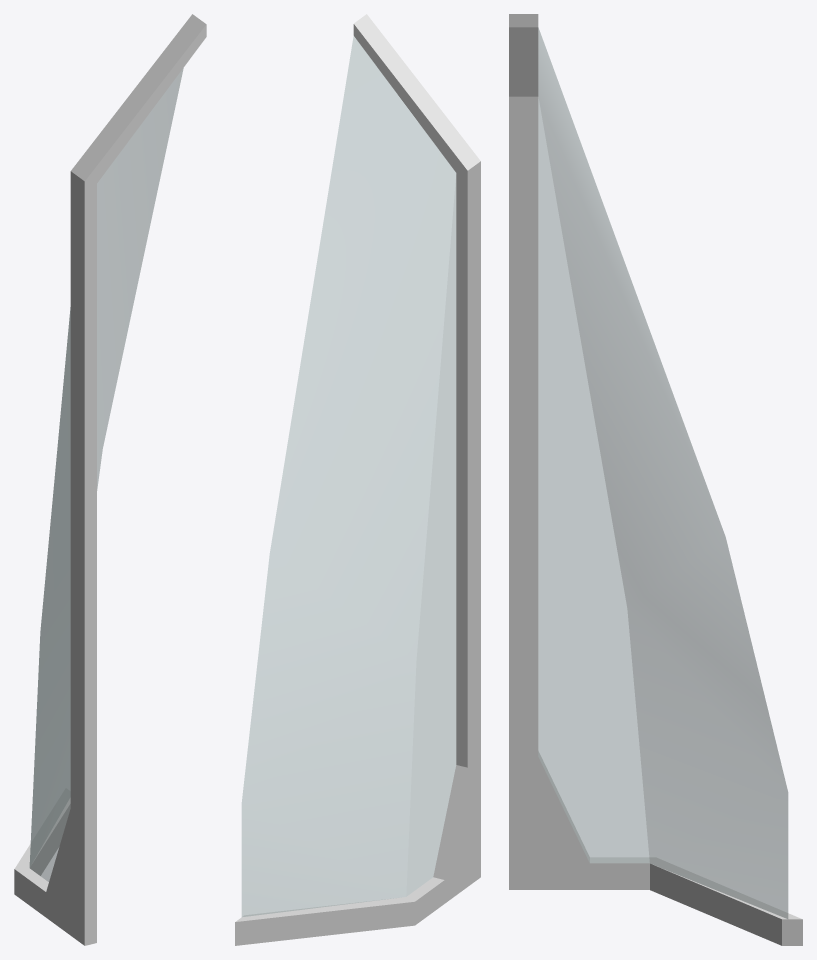
Rendered from winshield02R.fbx.
3 renders of one model, left to right at view 1: azimuth 30°, elevation 25°; view 2: azimuth 150°, elevation 25°; view 3: azimuth 270°, elevation 25°, orthographic. The views are drawn at different scales.
Visible parts, largest first — view 1: right glass; view 2: right glass; view 3: right glass.
Part boxes in pixels (box(x1,y1,x2,y2)): right glass: box(14, 14, 206, 945); right glass: box(235, 14, 480, 945); right glass: box(509, 14, 802, 945).
Bounding box in the file's own units: 1 × 2 × 7.
